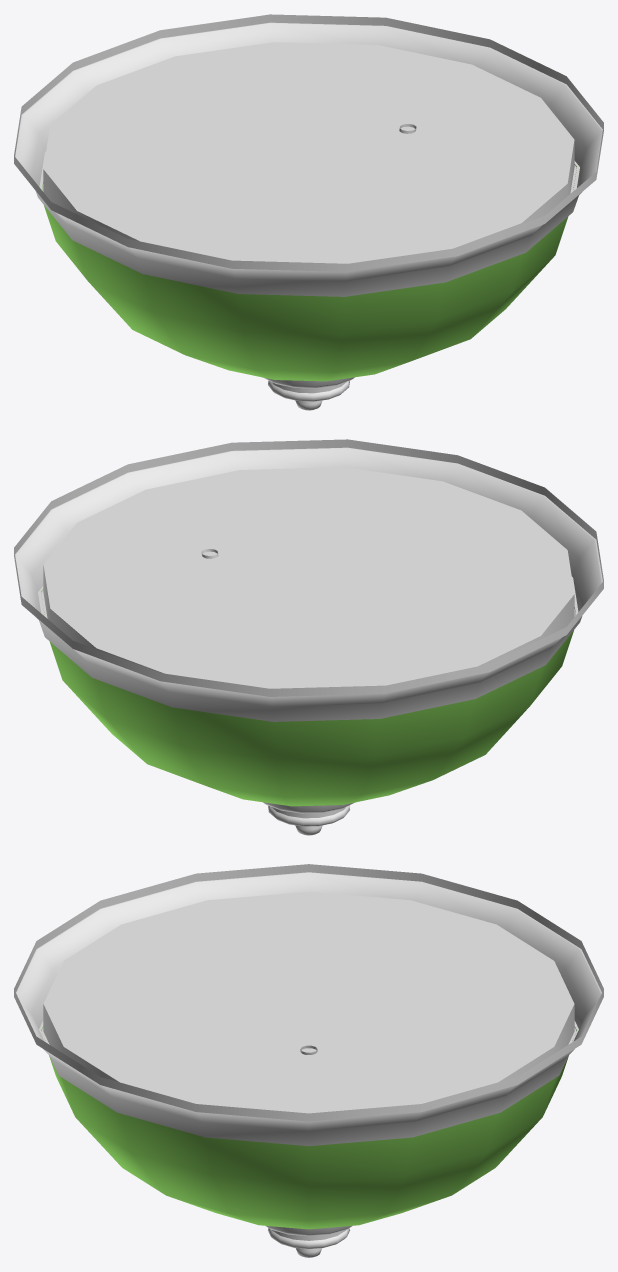
The model's file is InteriorLight01.fbx.
3 renders of one model, top to bottom at view 1: azimuth 30°, elevation 25°; view 2: azimuth 150°, elevation 25°; view 3: azimuth 270°, elevation 25°, orthographic.
Parts seen in each view (by area): view 1: Circle; view 2: Circle; view 3: Circle.
Boxes of the visible parts, x1,y1,x2,y2 form: Circle: (14, 14, 603, 410); Circle: (14, 439, 603, 835); Circle: (14, 864, 603, 1257).
Bounding box in the file's own units: 50 × 24.85 × 50.
